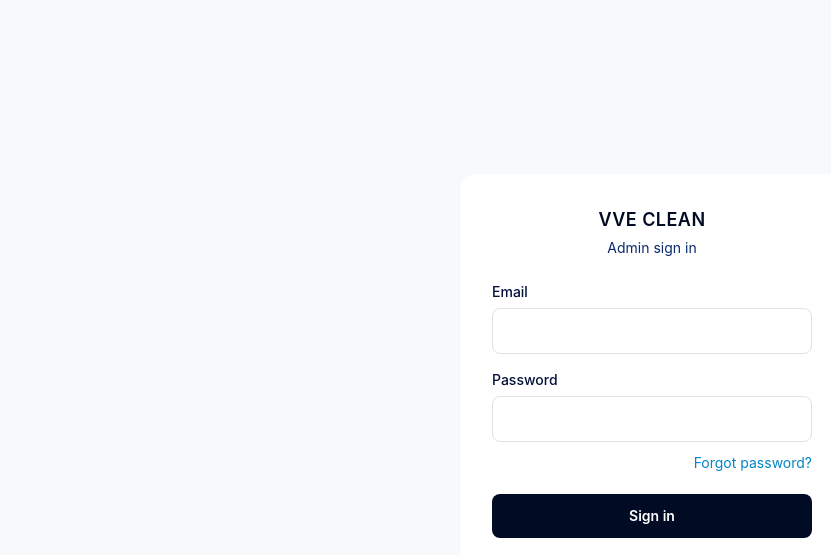
Test case: LoginPage › restores the original page and filters after unauthenticated sign-in
Type "owner@example.com" into the field labelled "Email". click: (652, 331)
box: left=492, top=308, right=812, bottom=354
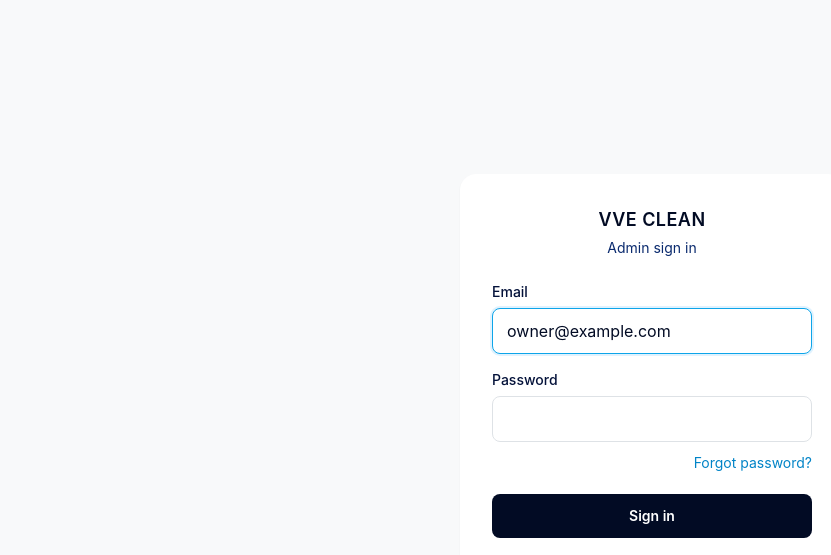
Type "test-password" into the password field labelled "Password". click: (652, 419)
box: left=492, top=396, right=812, bottom=442
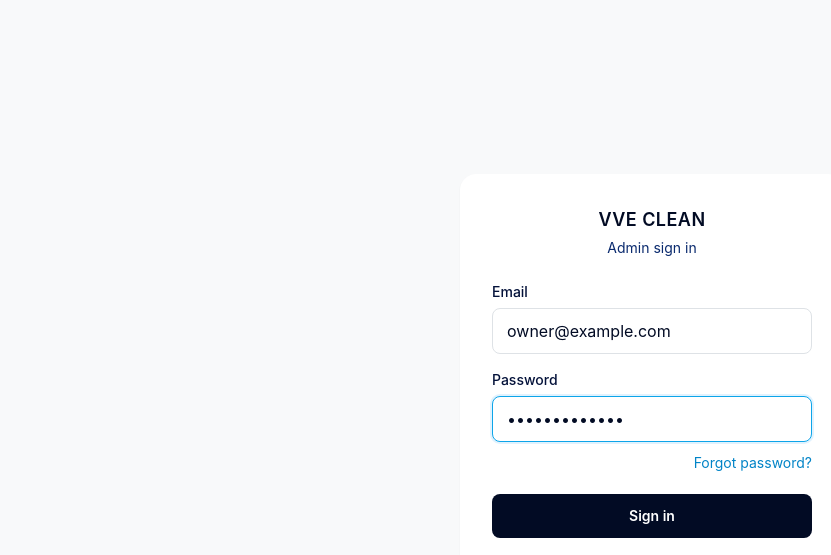
Click the button "Sign in". click: (652, 516)
box: left=492, top=494, right=812, bottom=538
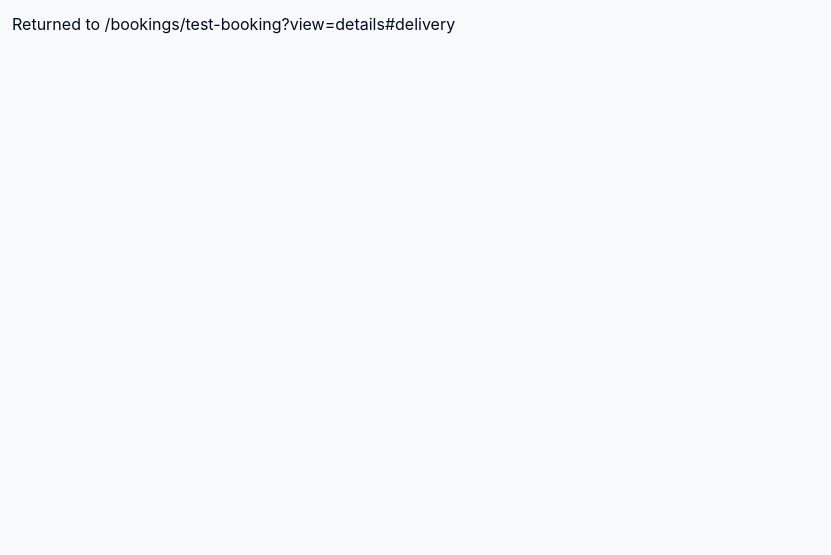
Expected: the text "Returned to /bookings/test-booking?view=details#delivery" is shown, left=12, top=14, right=455, bottom=34
